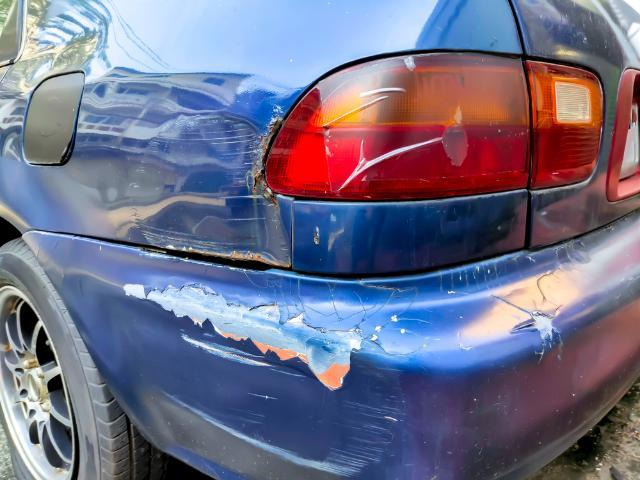crack: (509, 308, 563, 360)
dent: (119, 300, 393, 471), (131, 117, 291, 267)
scratch: (121, 276, 375, 391)
